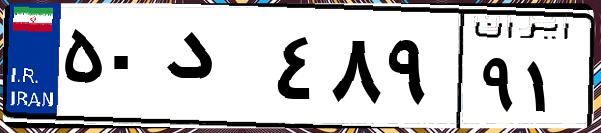0: (110, 28, 158, 98)
1: (525, 38, 570, 115)
4: (270, 28, 330, 110)
5: (57, 26, 110, 100)
8: (330, 28, 385, 110)
9: (385, 28, 445, 110), (475, 38, 525, 113)
د: (158, 20, 270, 120)
